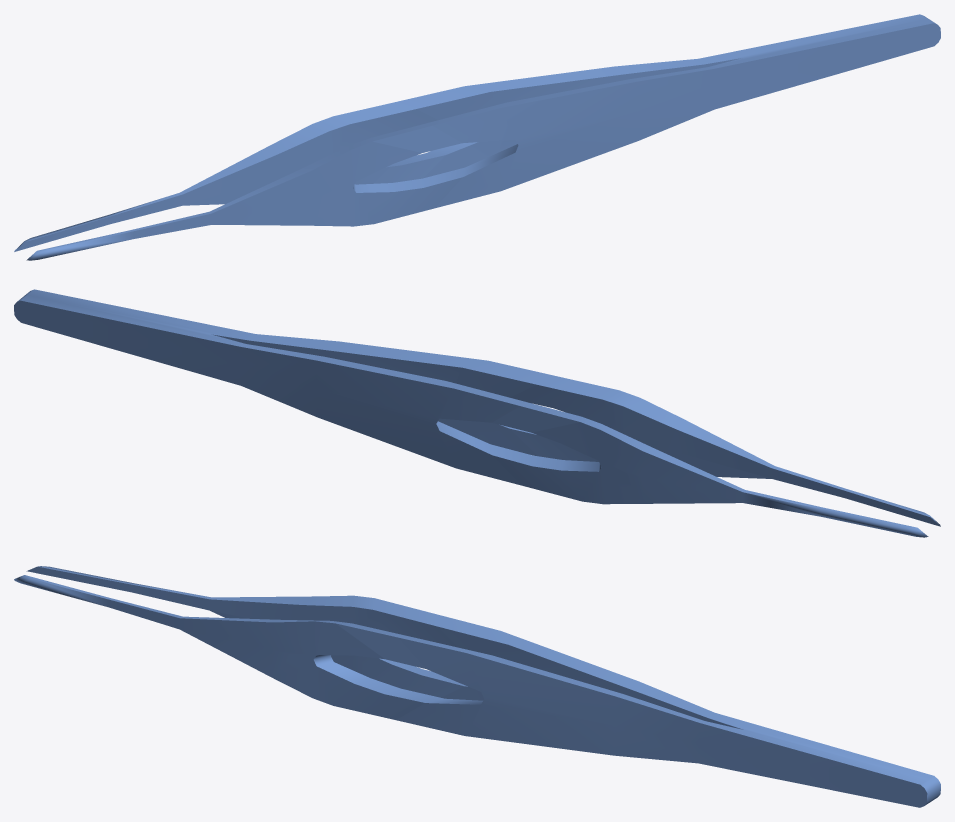
The model's file is Tweezer_Small.fbx.
The picture shows the model from 3 angles, top to bottom: view 1: azimuth 30°, elevation 25°; view 2: azimuth 150°, elevation 25°; view 3: azimuth 330°, elevation 25°; orthographic projection.
Visible parts, largest first — view 1: Tweezer_Small; view 2: Tweezer_Small; view 3: Tweezer_Small.
Part boxes in pixels (x1,y1,x2,y2): Tweezer_Small: [14, 14, 940, 260]; Tweezer_Small: [14, 289, 940, 537]; Tweezer_Small: [14, 566, 940, 807].
Size of the model in its own units: 7.32 by 0.6451 by 0.5751.
